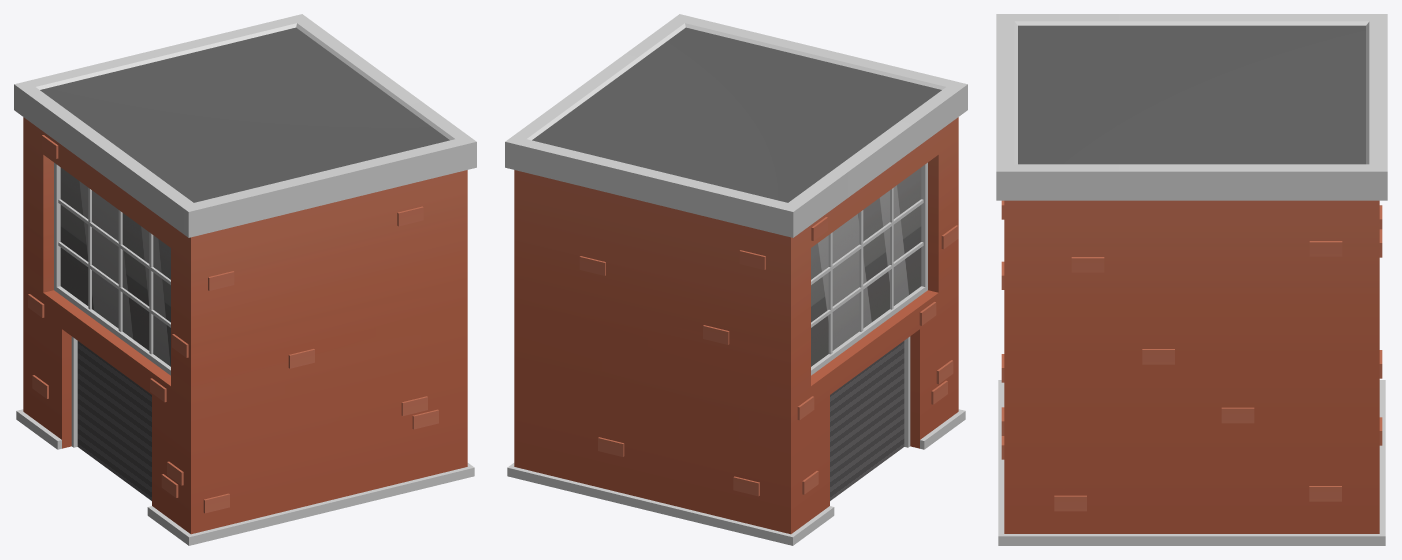
Rendered from Building_10_J.fbx.
3 renders of one model, left to right at view 1: azimuth 30°, elevation 25°; view 2: azimuth 150°, elevation 25°; view 3: azimuth 270°, elevation 25°, orthographic. The views are drawn at different scales.
Visible parts, largest first — view 1: Building_10_J; view 2: Building_10_J; view 3: Building_10_J.
Part boxes in pixels (bbox=[...]): Building_10_J: bbox=[14, 14, 476, 545]; Building_10_J: bbox=[505, 14, 967, 545]; Building_10_J: bbox=[996, 14, 1387, 545].
Size of the model in its own units: 526 by 584 by 552.
